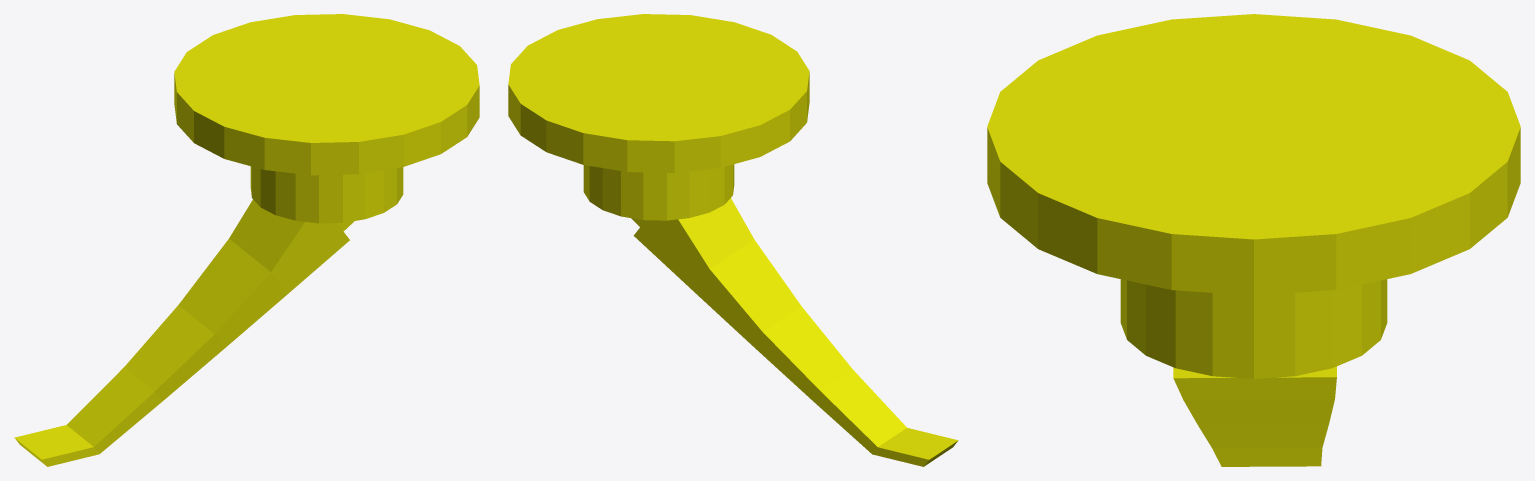
3 views of the same model, side by side, from view 1: azimuth 30°, elevation 25°; view 2: azimuth 150°, elevation 25°; view 3: azimuth 270°, elevation 25° (orthographic). The views are drawn at different scales.
Visible parts, largest first — view 1: pCube5; view 2: pCube5; view 3: pCube5.
Boxes of the visible parts, bbox=[...] form: pCube5: bbox=[14, 14, 479, 466]; pCube5: bbox=[508, 14, 958, 466]; pCube5: bbox=[987, 14, 1520, 466].
Size of the model in its own units: 3.22 by 2.24 by 2.
